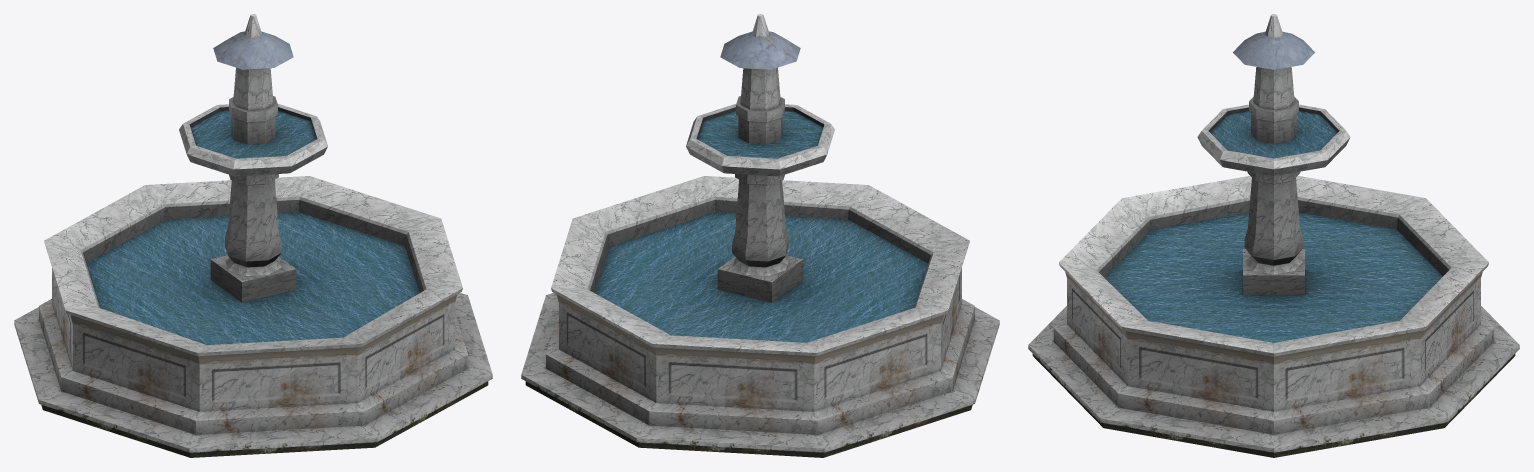
File: fountain.obj
The picture shows the model from 3 angles, left to right: view 1: azimuth 30°, elevation 25°; view 2: azimuth 150°, elevation 25°; view 3: azimuth 270°, elevation 25°; orthographic projection.
Visible parts, largest first — view 1: Fountain; view 2: Fountain; view 3: Fountain.
Boxes of the visible parts, x1,y1,x2,y2 form: Fountain: (14, 14, 492, 457); Fountain: (521, 14, 999, 457); Fountain: (1028, 14, 1519, 457).
Bounding box in the file's own units: 2.38 × 1.82 × 2.38.
